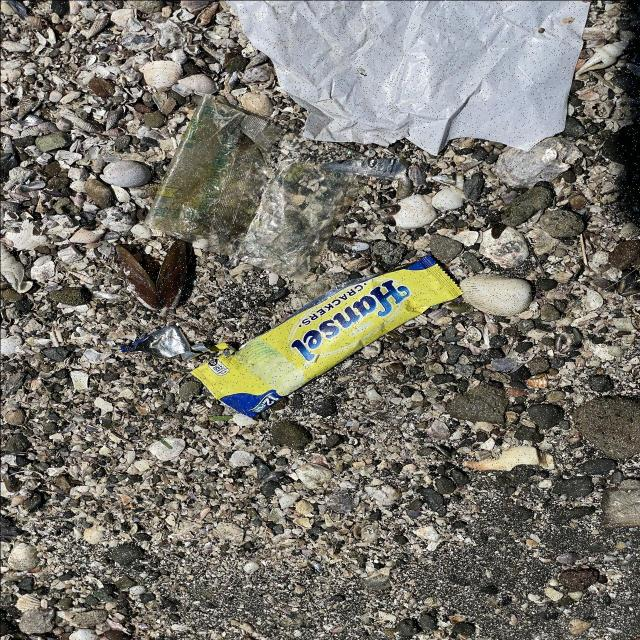plastic_waste: (193, 261, 465, 422)
